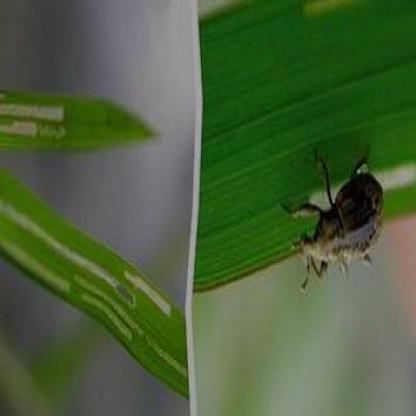rice-bug: (292, 147, 388, 281)
